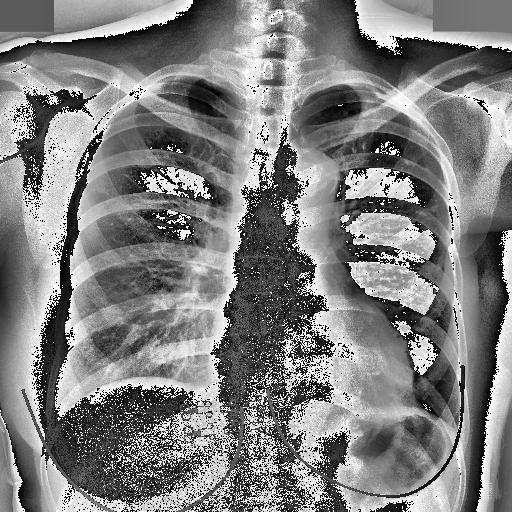0- Aortic enlargement: (286, 146, 336, 215), (292, 146, 338, 196)
13- Pulmonary fibrosis: (396, 154, 442, 301), (350, 122, 392, 158), (346, 109, 380, 152), (413, 200, 449, 238), (342, 132, 370, 180), (414, 257, 444, 296)
2- Calcification: (396, 154, 442, 301), (346, 109, 380, 152), (414, 257, 442, 295), (410, 203, 438, 231)
3- Cardiomegaly: (210, 326, 416, 407)
9- Other lesion: (346, 109, 380, 152)
